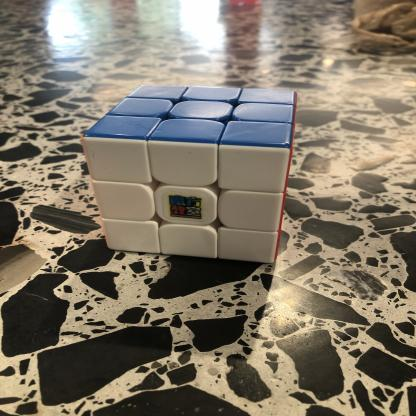SolvedCube: (73, 65, 310, 275)
